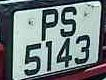1: (42, 41, 56, 73)
3: (71, 35, 92, 65)
4: (54, 37, 72, 70)
5: (22, 44, 43, 76)
P: (38, 8, 60, 43)
S: (60, 5, 78, 38)
